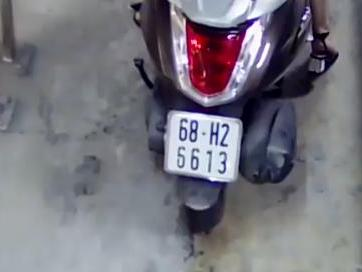num_plate: (165, 110, 243, 184)
